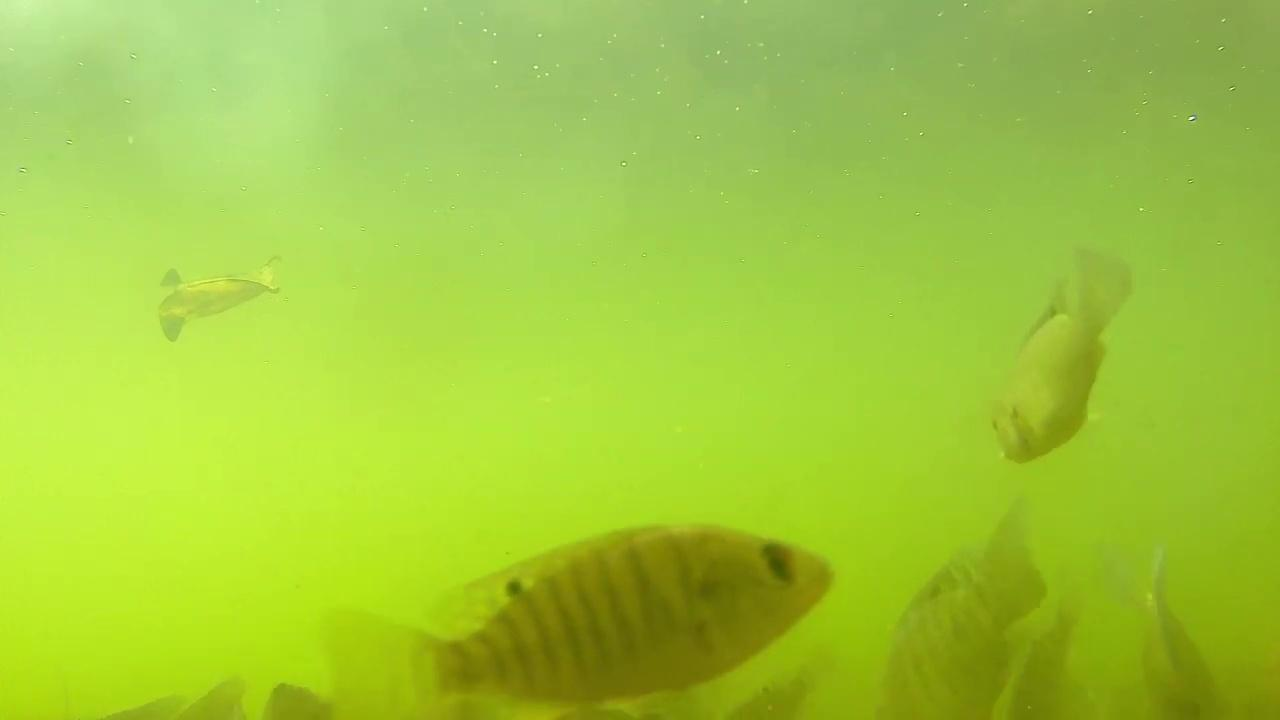Tilapia: (325, 514, 840, 720), (881, 498, 1050, 720), (983, 232, 1142, 464), (1107, 544, 1232, 720), (157, 252, 278, 340)
